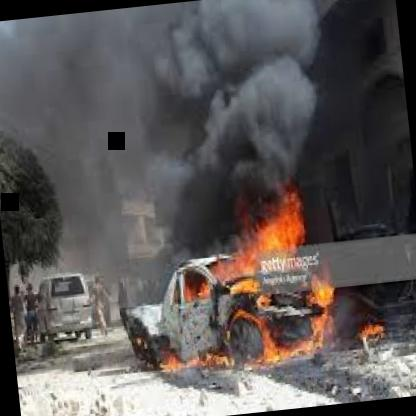fire: (117, 180, 306, 374)
